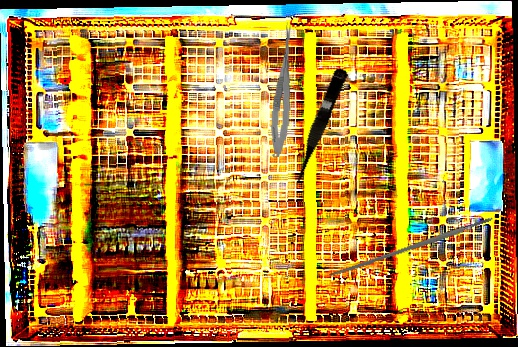Micro Scissor: (285, 65, 350, 190), (268, 21, 297, 158)
Scalpel Handle: (328, 216, 495, 279)
